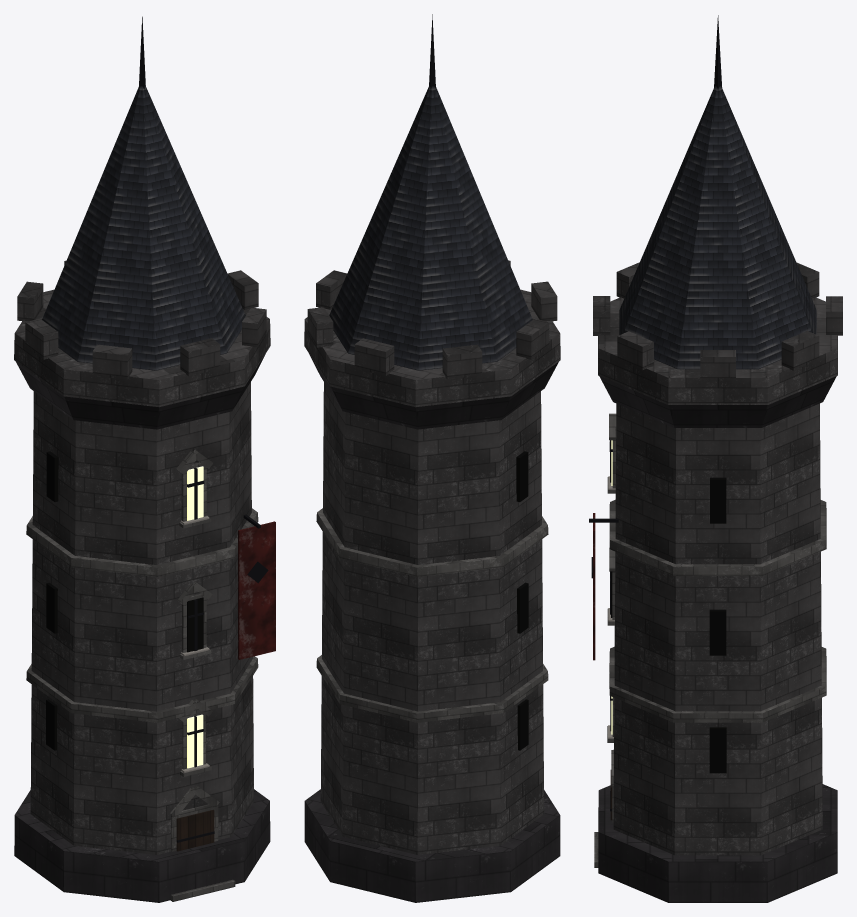
Rendered from TorreGotica.gltf.
3 renders of one model, left to right at view 1: azimuth 30°, elevation 25°; view 2: azimuth 150°, elevation 25°; view 3: azimuth 270°, elevation 25°, orthographic.
Visible parts, largest first — view 1: TorreGotica; view 2: TorreGotica; view 3: TorreGotica.
Part boxes in pixels (box(x1,y1,x2,y2)): TorreGotica: box(14, 16, 275, 902); TorreGotica: box(304, 14, 560, 902); TorreGotica: box(589, 15, 842, 902).
Size of the model in its own units: 7.72 by 28.62 by 7.85.
Materials: 10 (6 with a texture image).
